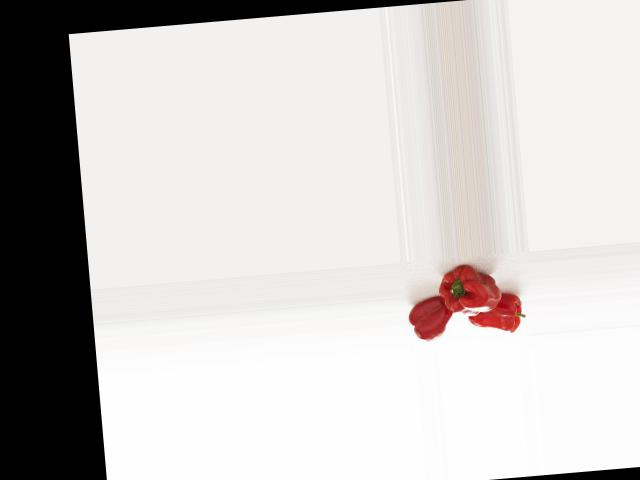bell_pepper: (404, 293, 452, 342)
